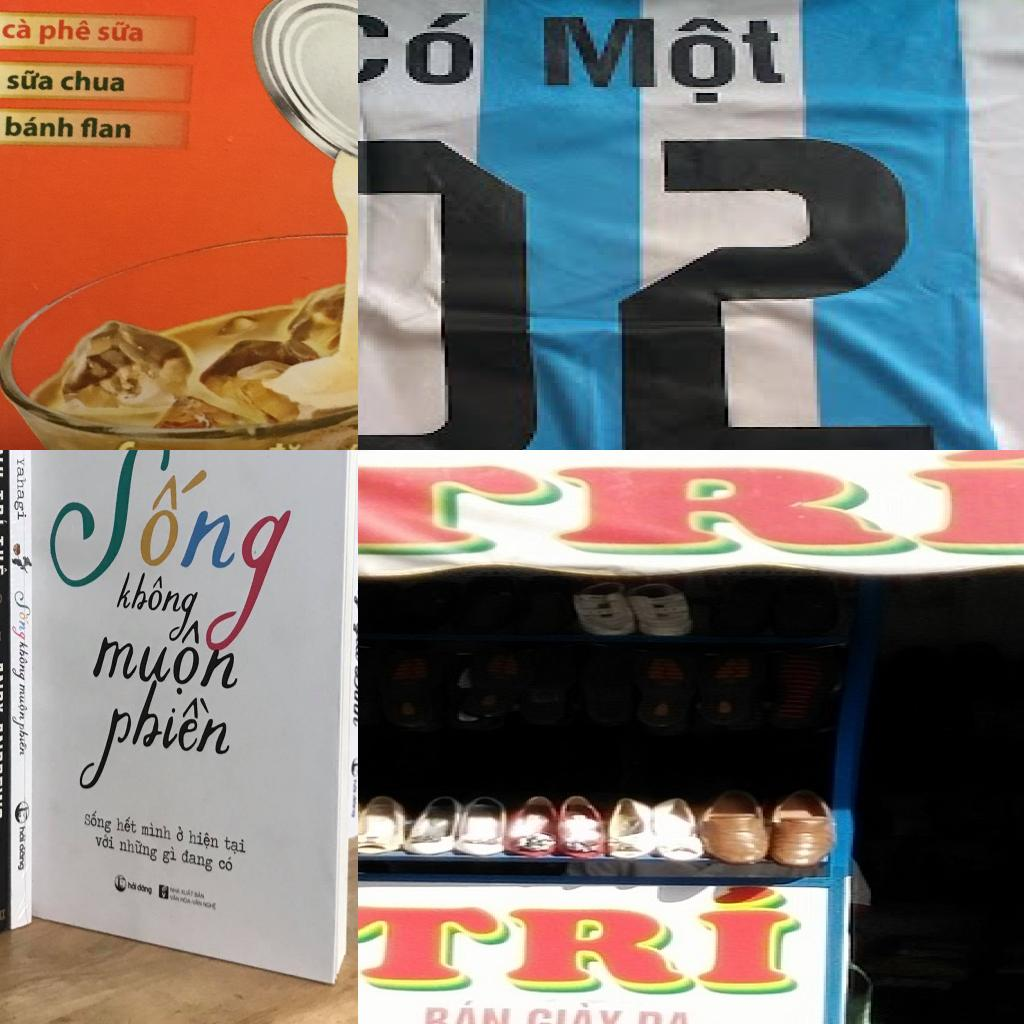text: (358, 450, 1024, 554), (358, 137, 540, 450), (358, 884, 803, 992), (30, 450, 265, 596), (544, 15, 796, 107), (74, 676, 247, 805), (201, 499, 295, 663), (87, 612, 251, 704), (358, 11, 480, 87), (109, 572, 207, 642), (0, 140, 82, 197), (520, 1002, 637, 1024), (418, 999, 519, 1024), (11, 587, 31, 644), (117, 836, 159, 863), (318, 108, 350, 142), (180, 847, 214, 875), (187, 166, 216, 197), (632, 1010, 695, 1024), (10, 713, 30, 756), (10, 638, 29, 682), (14, 458, 27, 522), (83, 810, 113, 835), (188, 830, 220, 852), (142, 822, 172, 842), (16, 682, 30, 721), (352, 538, 358, 615), (351, 662, 358, 728), (224, 836, 246, 856), (116, 816, 138, 834), (94, 833, 116, 850), (162, 846, 178, 867), (351, 617, 358, 664), (0, 488, 8, 525), (0, 534, 7, 576), (217, 856, 233, 872), (18, 843, 26, 872), (137, 884, 153, 897), (0, 660, 4, 711), (344, 144, 358, 158), (203, 900, 217, 912), (347, 158, 358, 173), (19, 826, 27, 844), (126, 880, 138, 892), (180, 887, 194, 897), (176, 826, 184, 842), (194, 890, 206, 900), (180, 895, 192, 905), (170, 893, 180, 903), (193, 898, 203, 908), (170, 885, 181, 894)
